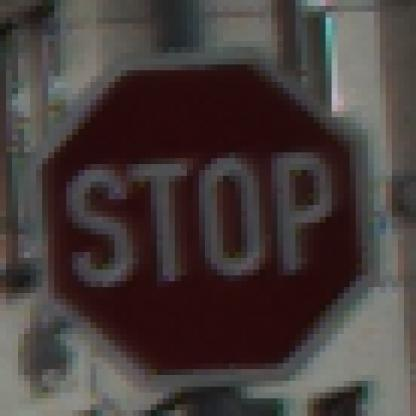stop: (44, 51, 372, 384)
